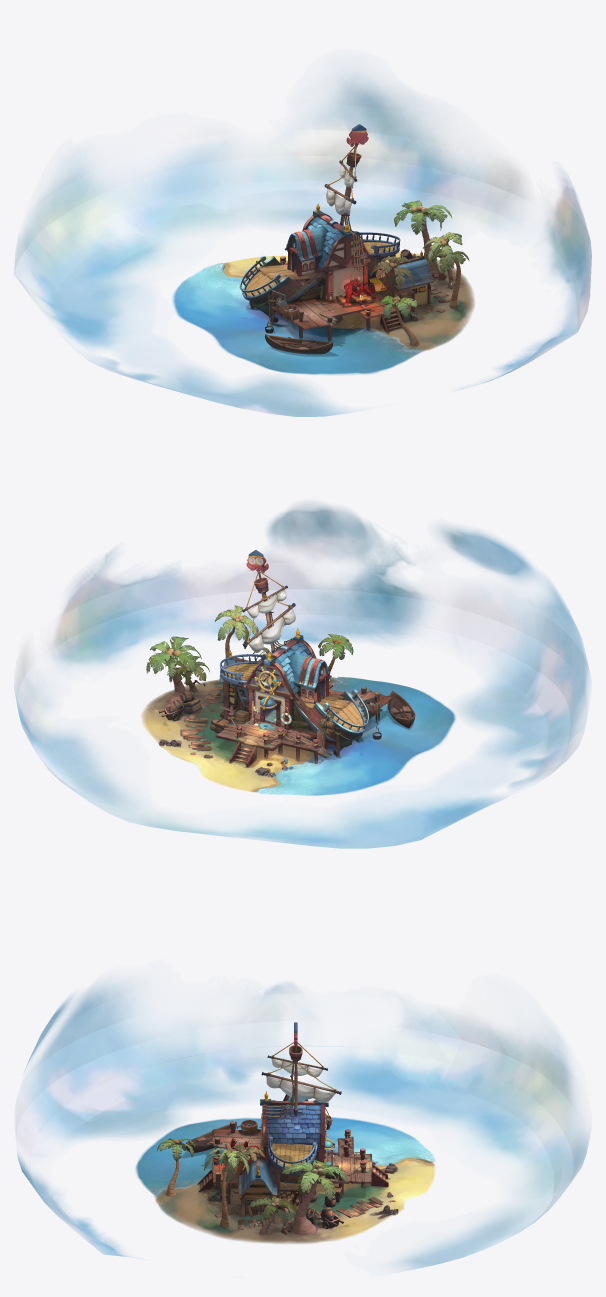
Rendered from sea_house-transformed.glb.
The picture shows the model from 3 angles, top to bottom: view 1: azimuth 30°, elevation 25°; view 2: azimuth 150°, elevation 25°; view 3: azimuth 270°, elevation 25°; orthographic projection.
Visible parts, largest first — view 1: Object_6, Object_4, Object_2; view 2: Object_6, Object_2, Object_4; view 3: Object_6, Object_2, Object_4.
Boxes of the visible parts, <box> form: Object_6: <box>14,71,591,416</box>; Object_4: <box>174,143,474,355</box>; Object_2: <box>172,124,469,374</box>; Object_6: <box>14,502,590,848</box>; Object_2: <box>142,550,455,795</box>; Object_4: <box>141,569,444,792</box>; Object_6: <box>15,981,591,1271</box>; Object_2: <box>135,1022,435,1237</box>; Object_4: <box>153,1045,435,1243</box>.
Bounding box in the file's own units: 626 × 328 × 621.
Materials: 3 (3 with a texture image).
